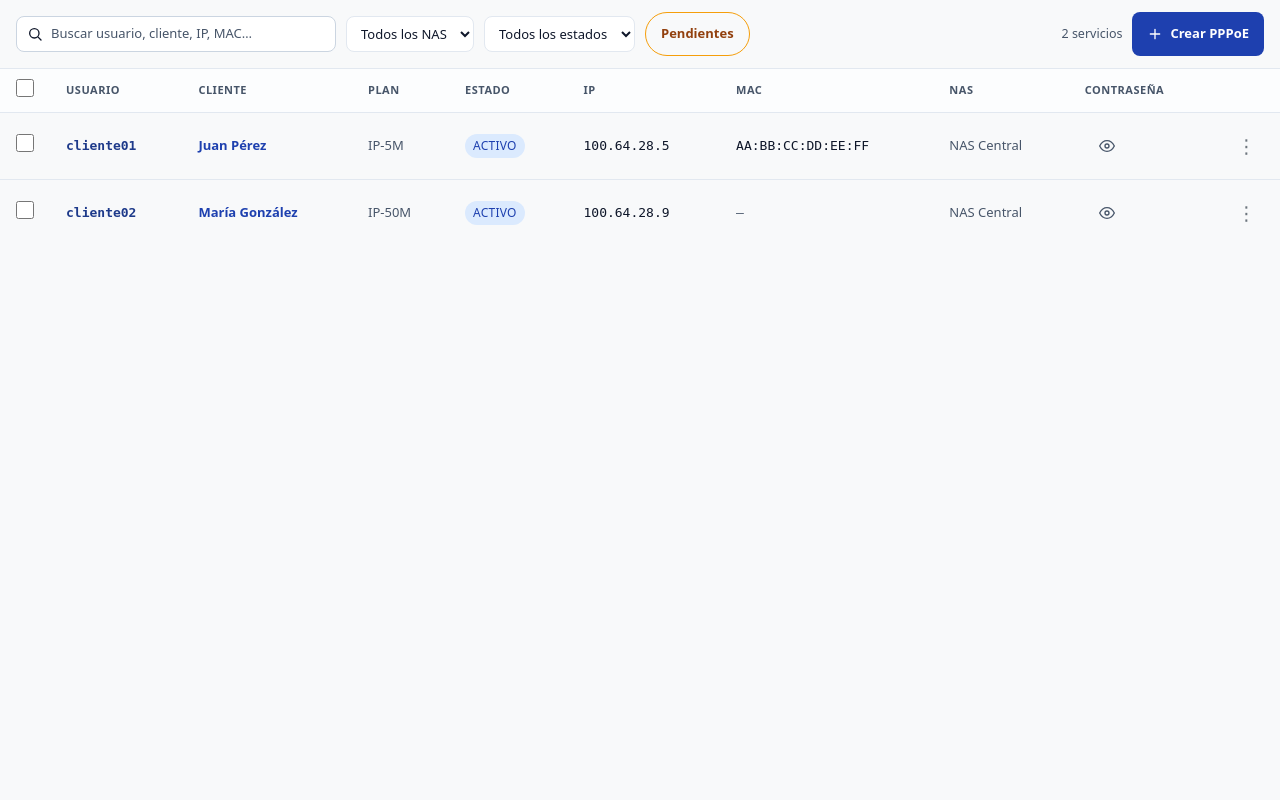
it: PppoeManagementTab bulk — 5.6: modal bulk cambio de plan › muestra error INLINE (role=alert) con el mensaje real del BE cuando bulkChangePlan falla (422)
What coordinates should you click on to do the following:
click the checkbox named "seleccionar todos de esta página"
I would click on:
 (25, 88)
Its box is 16,79 -> 34,97.
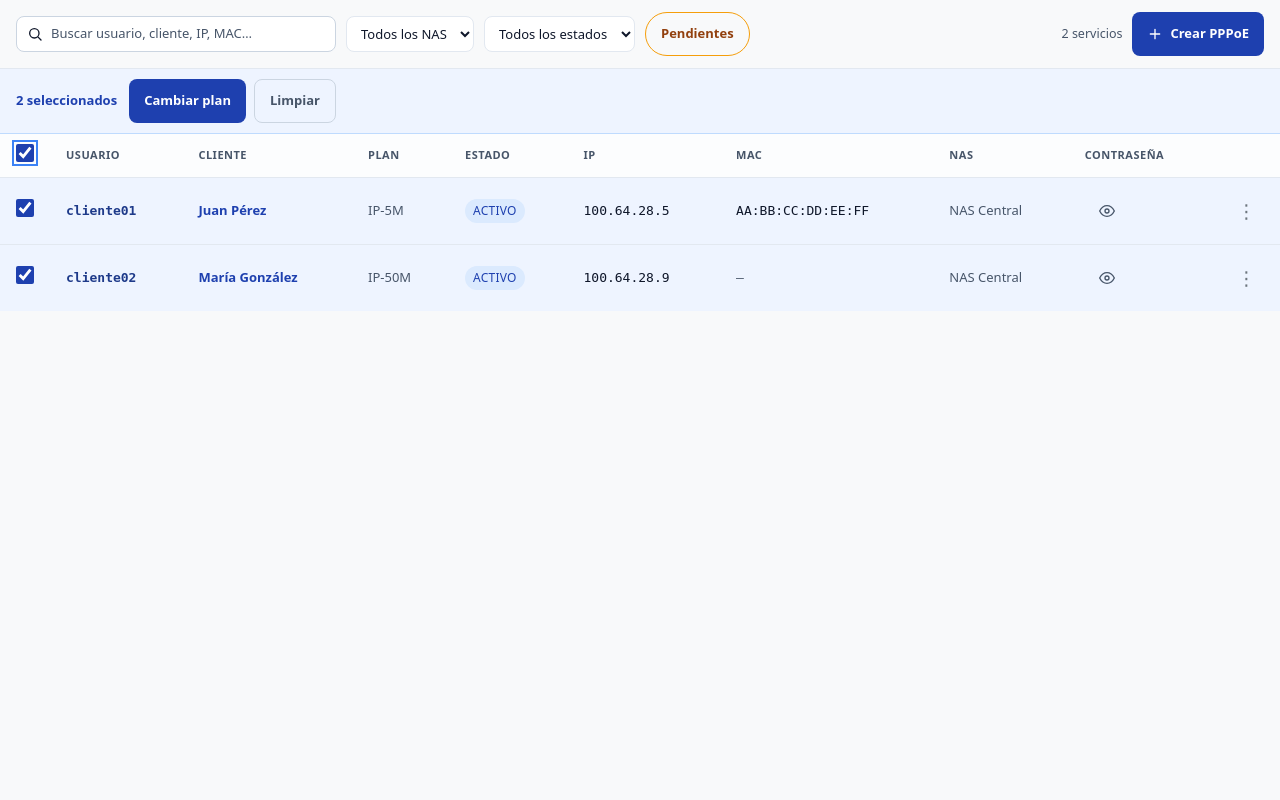
What coordinates should you click on to do the following:
click the button "Cambiar plan"
I would click on:
 (188, 101)
Its box is 129,79 -> 246,123.
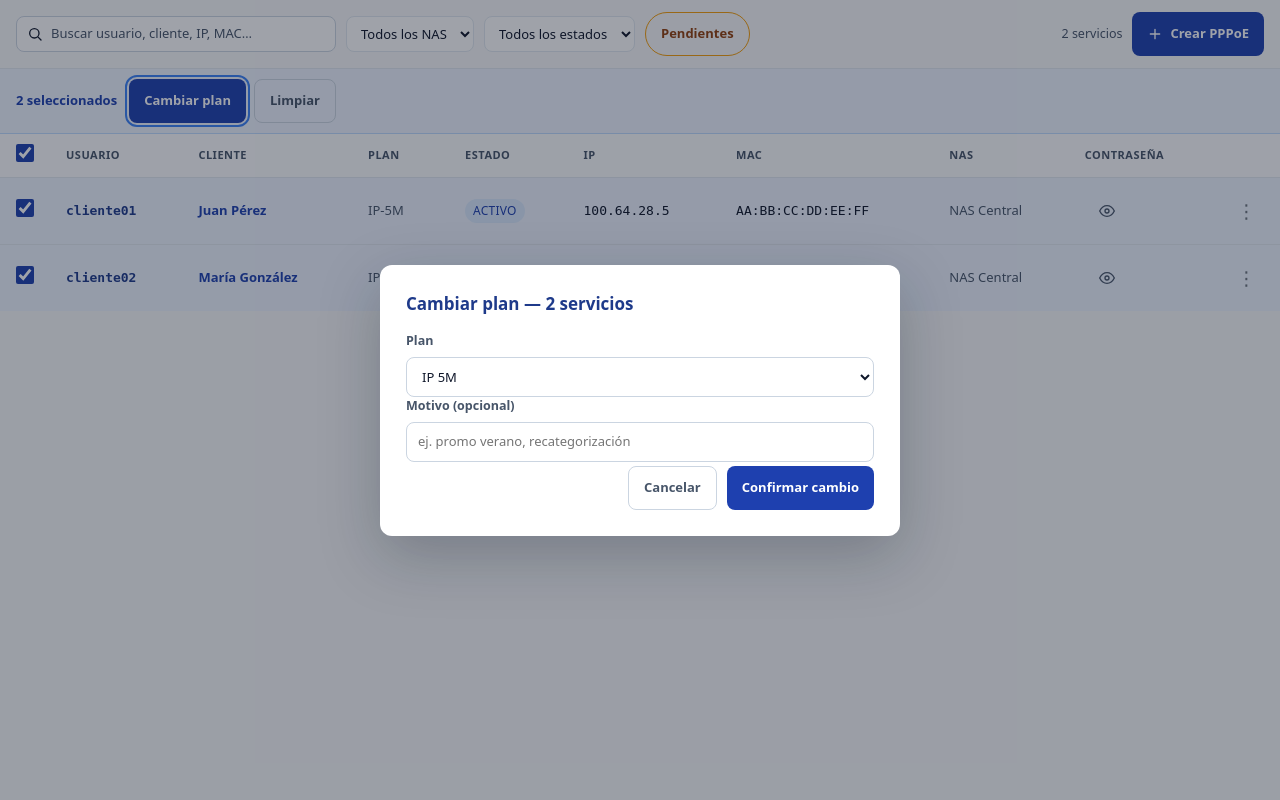
What coordinates should you click on to do the following:
click the button "Confirmar cambio"
I would click on:
 (800, 488)
Its box is 727,466 -> 874,510.
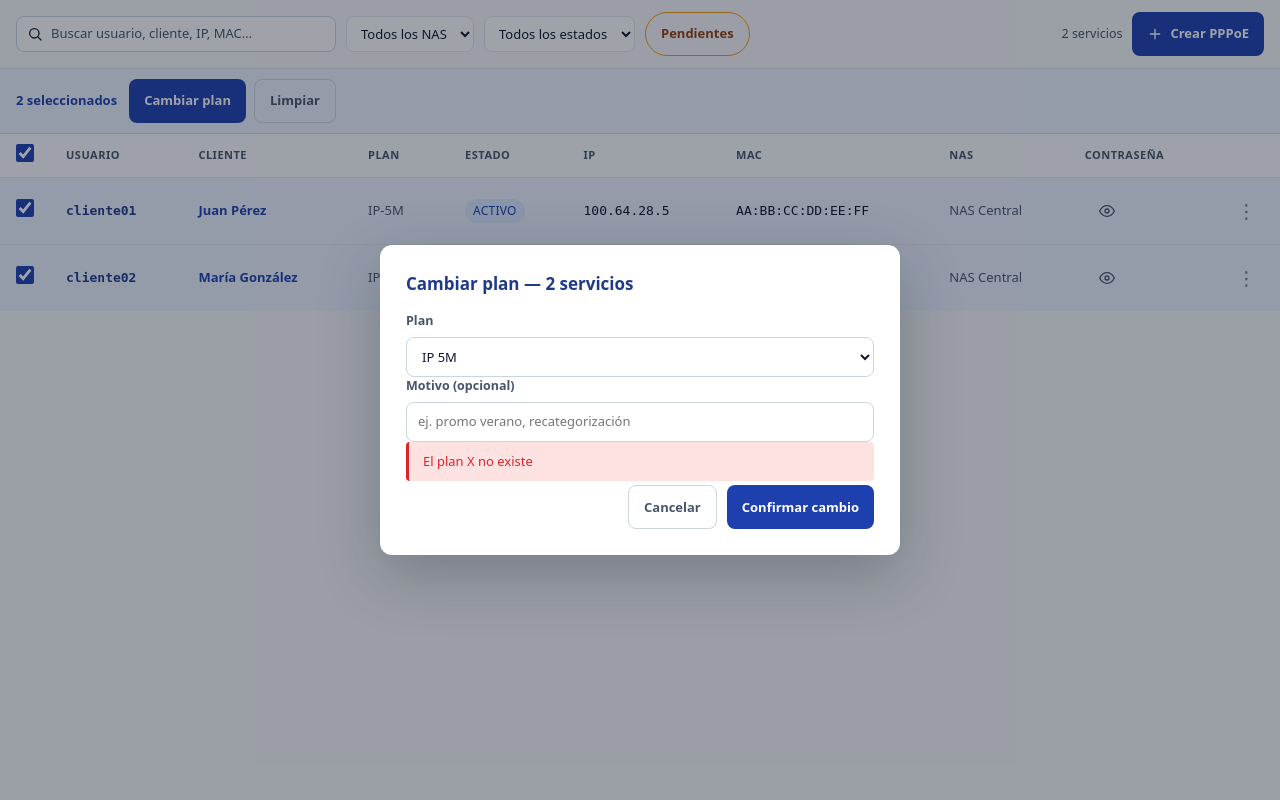
Check: the dialog is shown, box 380,245 -> 900,555
Check: the message "El plan X no existe" is shown, box 406,442 -> 874,481
Check: the message reads "El plan X no existe", box 423,452 -> 533,470
